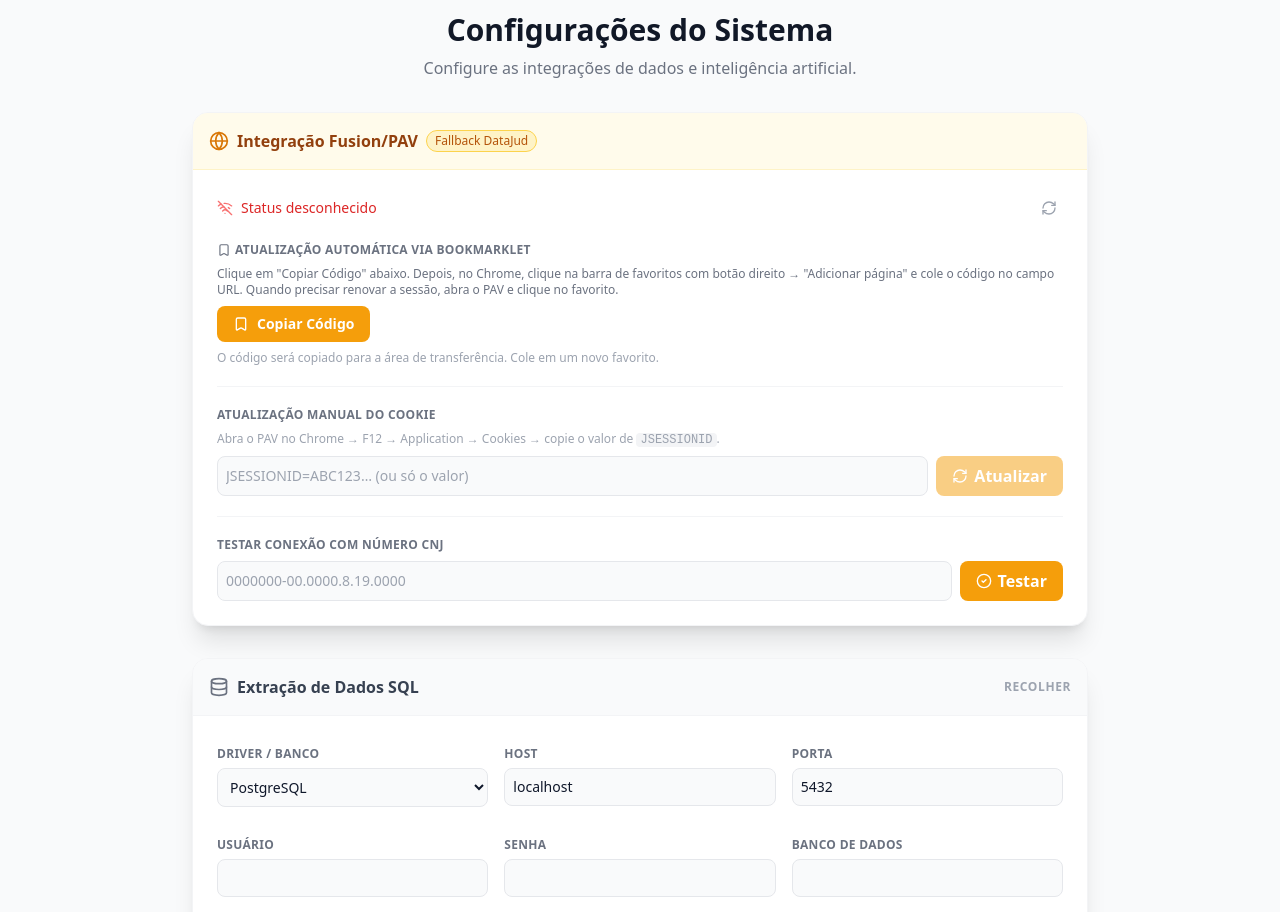
Test: Settings Component › Expand/Collapse Section › TC-25: expands section on header click when collapsed
# Collapse first
Click the heading "Extração de Dados SQL": (328, 687) [237,675,419,699]
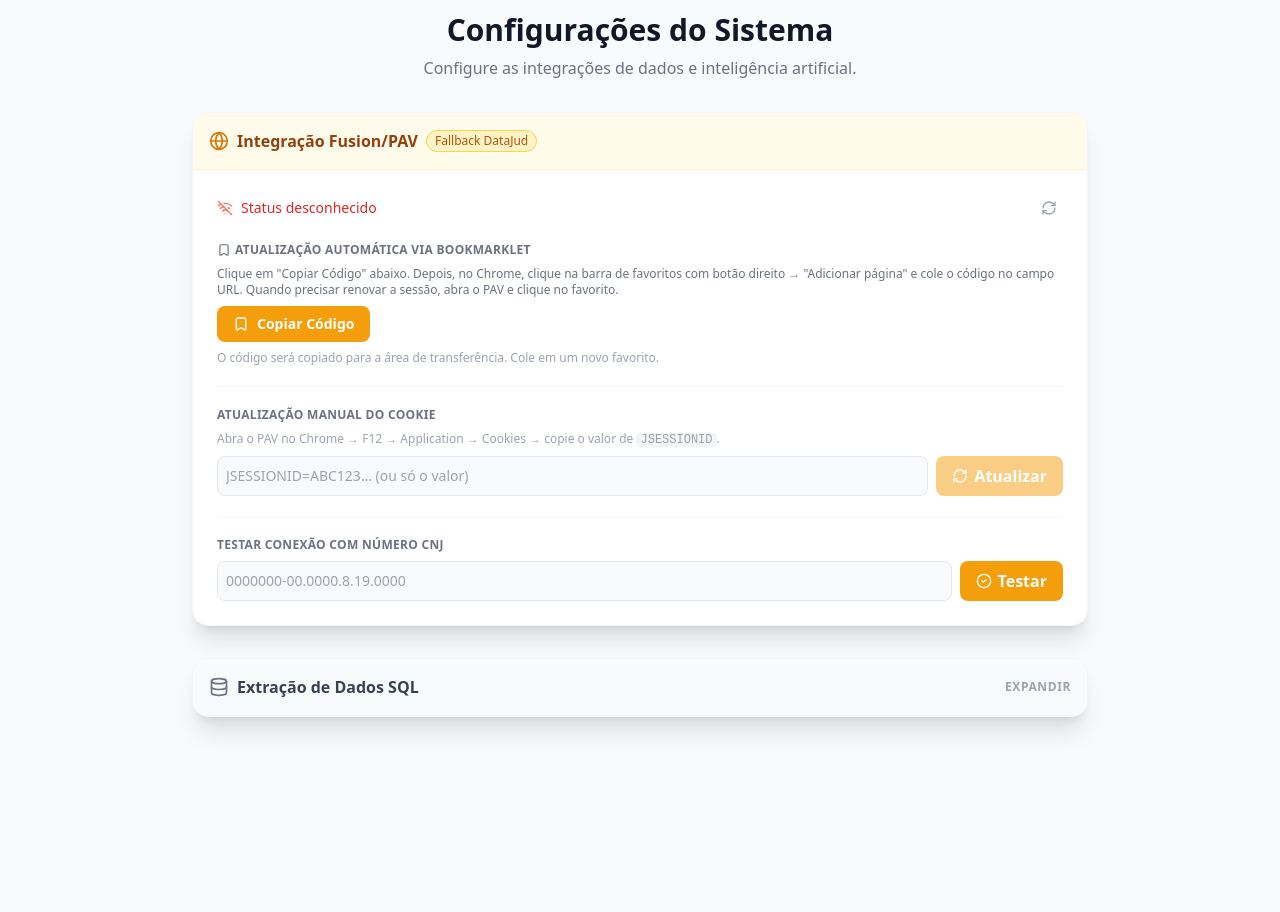
Check: the label labelled "Host" is gone
# Expand again
Click the heading "Extração de Dados SQL": (328, 687) [237,675,419,699]
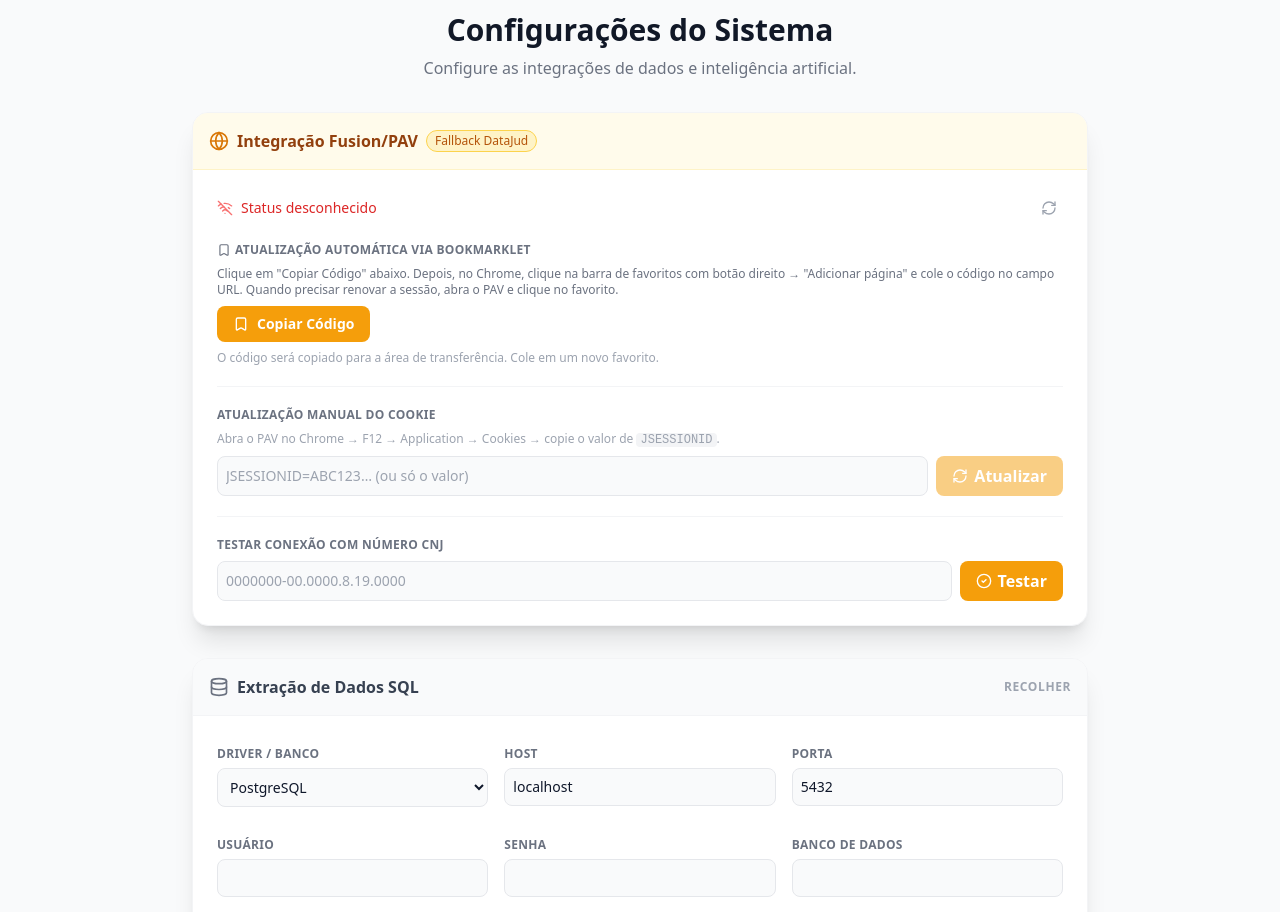
Check: the field labelled "Host" is shown, box [504,768,776,806]
